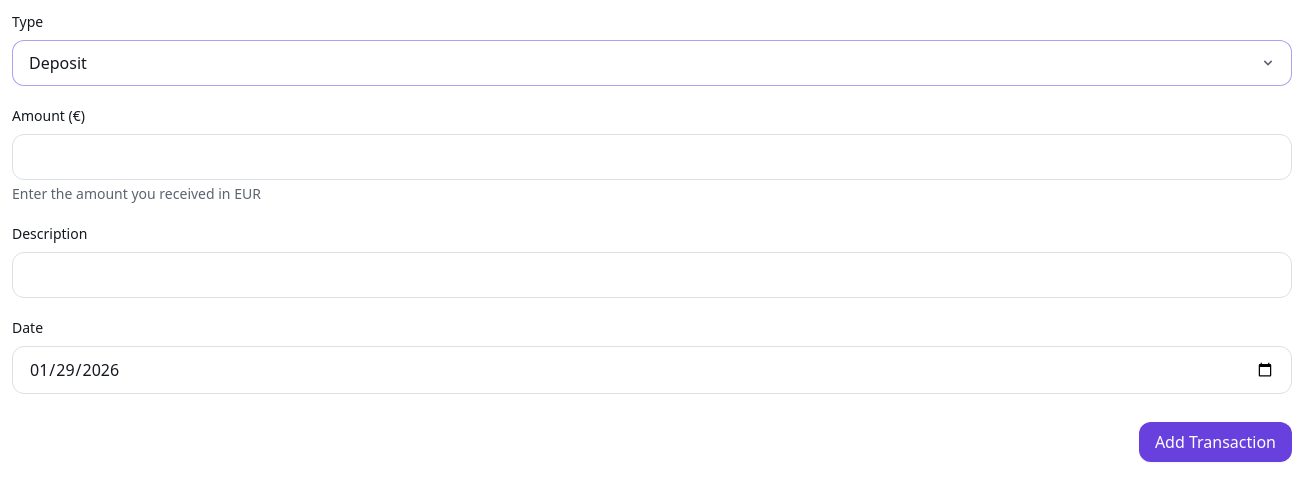
TransactionForm › should validate amount is greater than 0
In the number field labelled "Amount (€)": (652, 157) [12,134,1292,180], type "0"
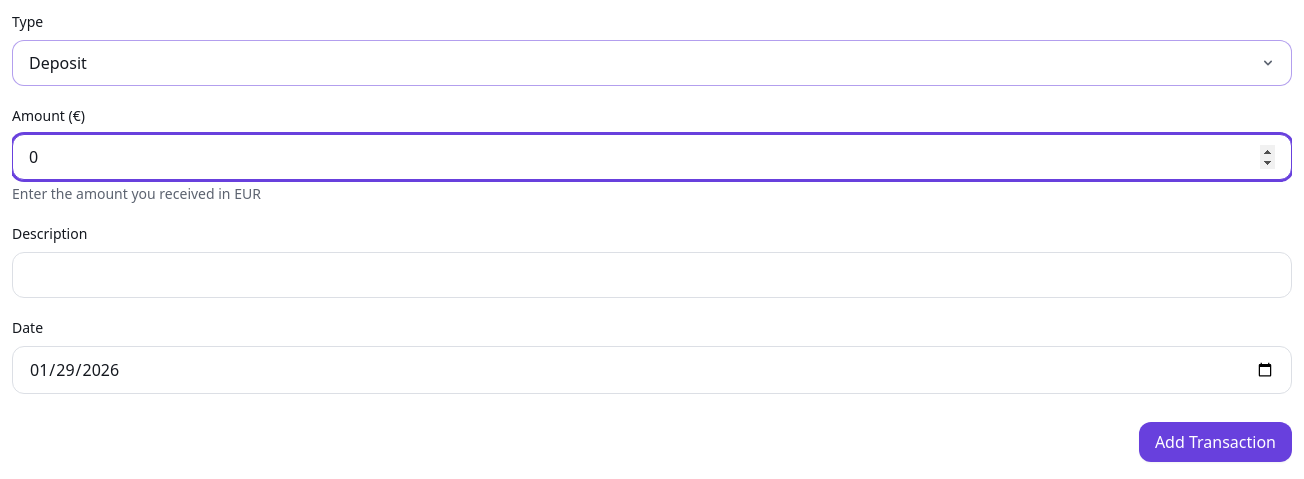
In the field labelled "Description": (652, 275) [12,252,1292,298], type "Test"
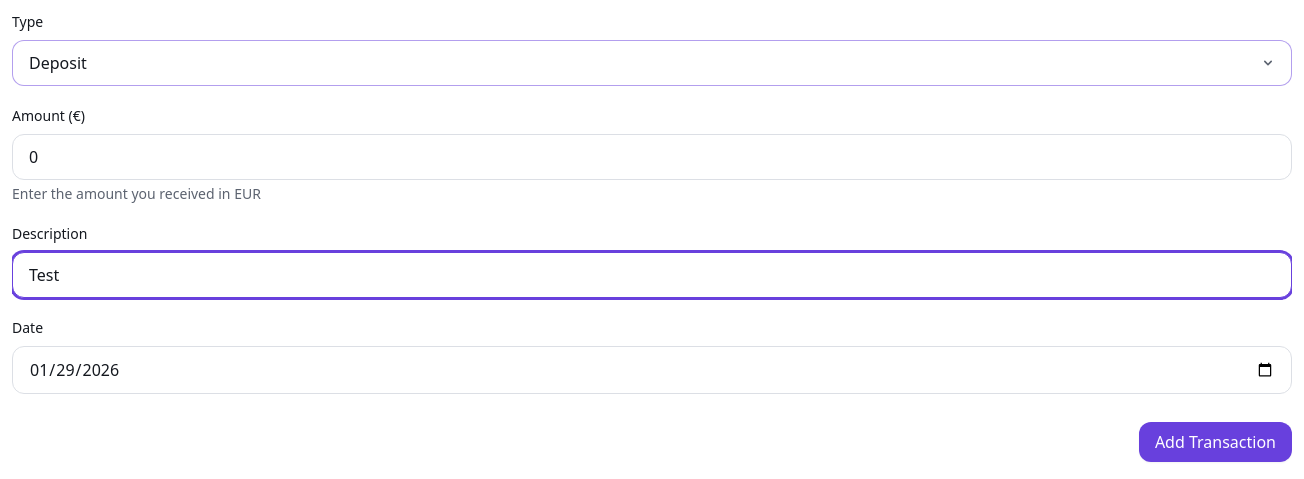
Click the button "Add Transaction": (1215, 442) [1139,422,1292,462]
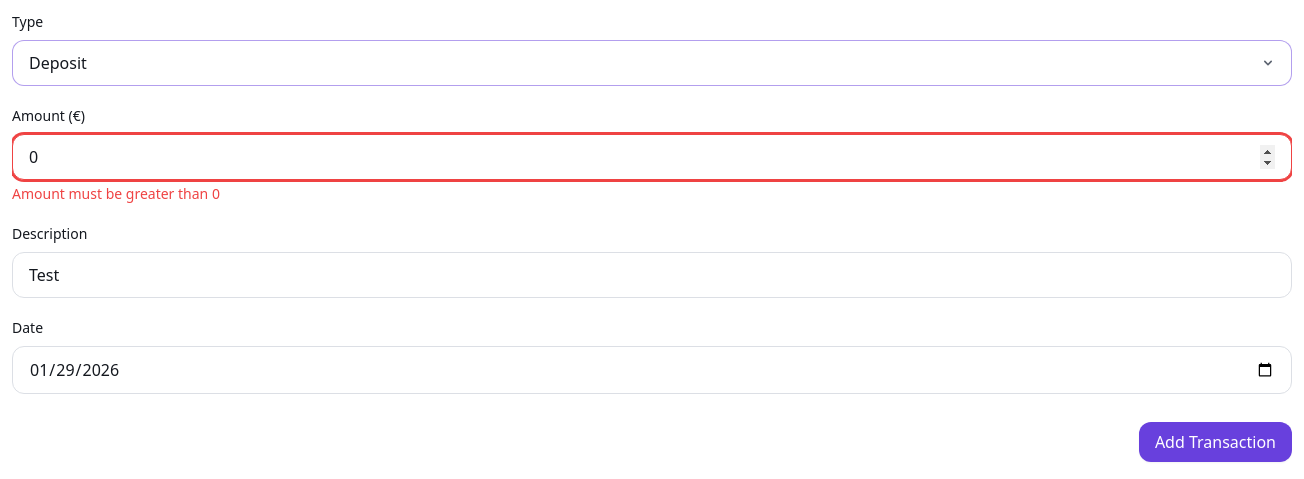
Now the text "Amount must be greater than 0" is shown, box [12,184,220,203]
